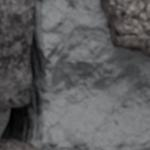brick: (0, 0, 33, 107), (101, 0, 149, 55), (0, 141, 37, 149)
crack: (0, 2, 45, 147)
